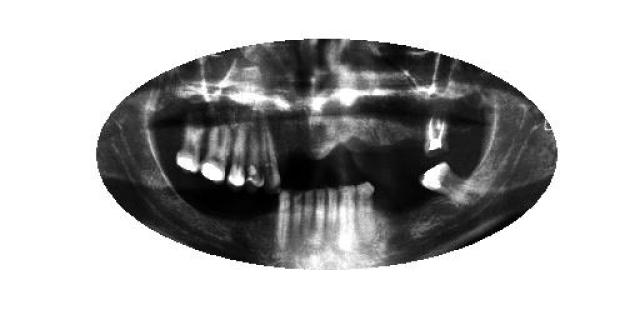Cavity: (424, 118, 451, 160)
Fillings: (175, 119, 201, 175), (200, 130, 226, 186), (226, 125, 246, 190)
Implant: (424, 118, 450, 160)
Restorations: (417, 161, 475, 204)
